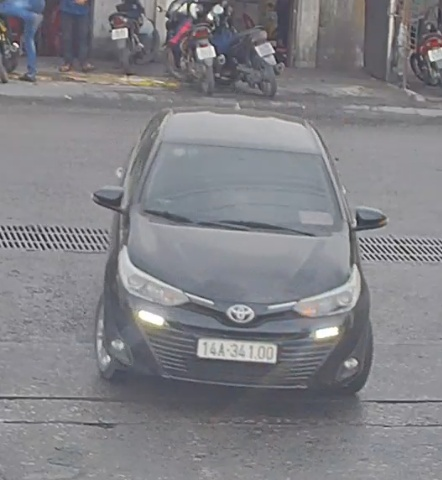vehicle plate: (190, 331, 283, 364)
